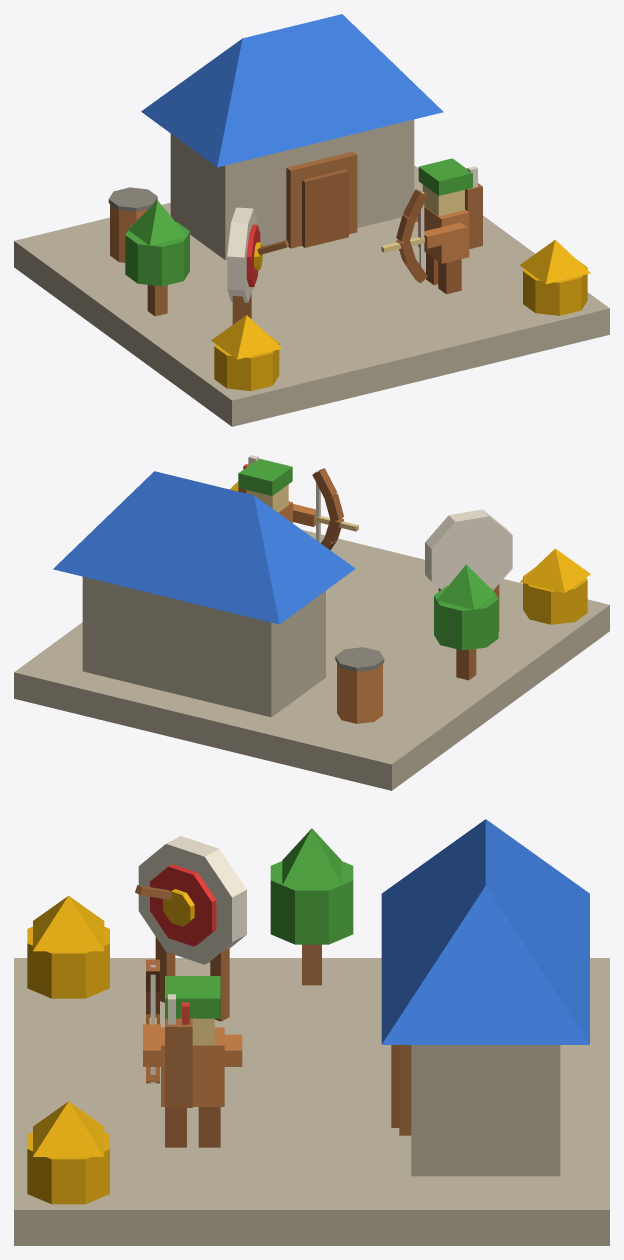
Rendered from archery_range_t1_v2.glb.
The picture shows the model from 3 angles, top to bottom: view 1: azimuth 30°, elevation 25°; view 2: azimuth 150°, elevation 25°; view 3: azimuth 270°, elevation 25°; orthographic projection. The views are drawn at different scales.
Visible parts, largest first — view 1: archery_range_t1_v2; view 2: archery_range_t1_v2; view 3: archery_range_t1_v2.
Part boxes in pixels (x1=…): archery_range_t1_v2: x1=14, y1=14, x2=609, y2=426; archery_range_t1_v2: x1=14, y1=455, x2=609, y2=790; archery_range_t1_v2: x1=14, y1=819, x2=609, y2=1245.
Size of the model in its own units: 0.6 by 0.33 by 0.6.
Materials: 1 (1 with a texture image).
